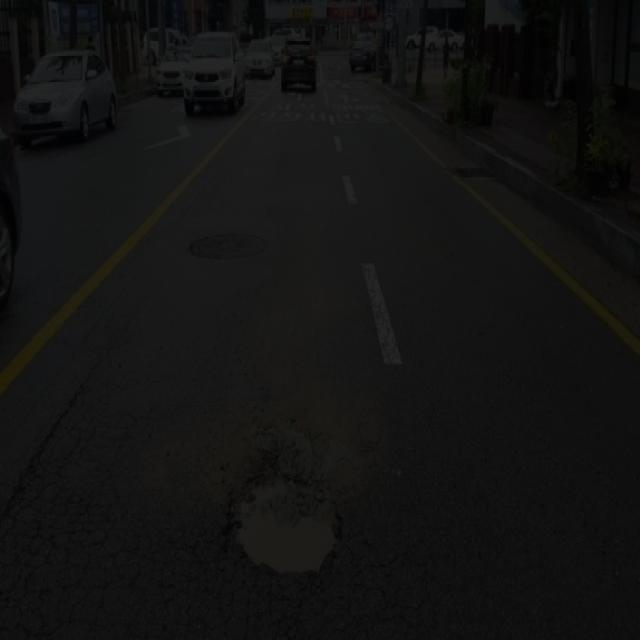pothole: (214, 431, 355, 594)
